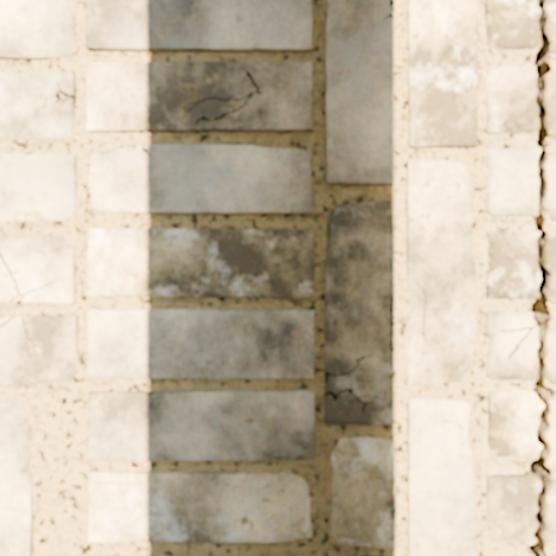brick: (89, 472, 313, 542), (89, 392, 314, 461), (89, 310, 314, 379), (86, 62, 311, 131), (89, 229, 313, 297), (407, 161, 475, 385), (325, 202, 393, 424), (91, 146, 313, 213), (327, 0, 393, 183), (86, 0, 311, 51), (408, 398, 476, 555), (410, 0, 477, 147), (333, 439, 397, 549), (0, 317, 78, 384), (0, 73, 76, 140), (0, 155, 77, 221), (0, 401, 33, 555), (0, 236, 75, 302), (0, 0, 75, 59), (0, 260, 17, 302), (0, 319, 4, 323)
broken_brick: (487, 389, 543, 460), (484, 310, 538, 381), (485, 474, 540, 543), (485, 147, 539, 216), (485, 65, 538, 135), (485, 231, 539, 299), (485, 0, 540, 51), (546, 478, 555, 548), (546, 69, 555, 138), (547, 316, 555, 385), (547, 151, 555, 220), (548, 235, 555, 304), (548, 397, 555, 465), (548, 0, 555, 54)
crack: (499, 0, 555, 555), (0, 249, 57, 303), (324, 353, 374, 383), (324, 388, 375, 413), (21, 316, 36, 348), (118, 143, 151, 156), (0, 316, 15, 329), (89, 477, 113, 485), (384, 14, 394, 21), (390, 0, 394, 8), (91, 172, 94, 182), (523, 127, 529, 131)
